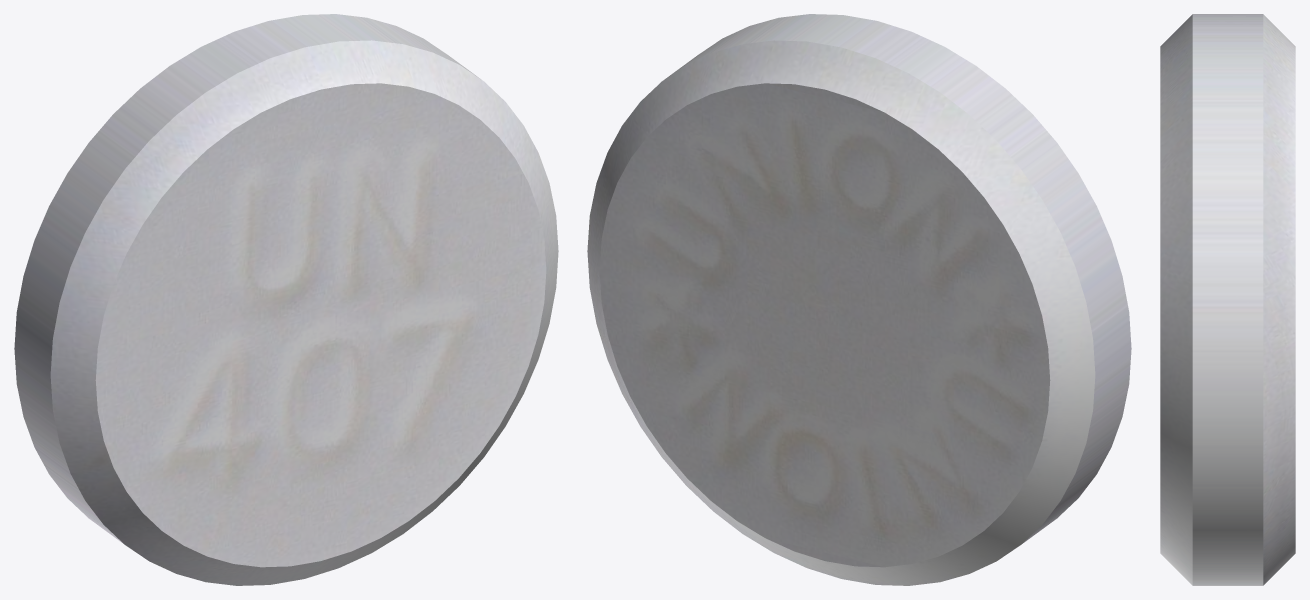
Rendered from 20180111GOPHDRGPT29021.fbx.
The picture shows the model from 3 angles, left to right: view 1: azimuth 30°, elevation 25°; view 2: azimuth 150°, elevation 25°; view 3: azimuth 270°, elevation 25°; orthographic projection. The views are drawn at different scales.
Visible parts, largest first — view 1: BezierCircle; view 2: BezierCircle; view 3: BezierCircle.
Part boxes in pixels (x1=…): BezierCircle: x1=14, y1=14, x2=558, y2=585; BezierCircle: x1=587, y1=14, x2=1131, y2=585; BezierCircle: x1=1160, y1=14, x2=1295, y2=585.
Size of the model in its own units: 1.12 by 1.12 by 0.2654.
